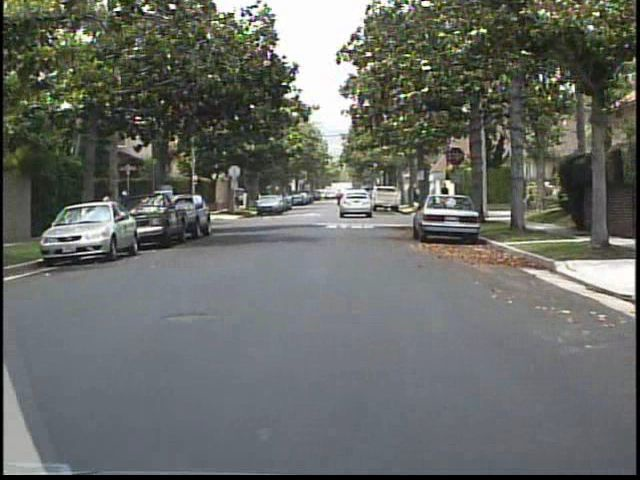person: (100, 189, 119, 234), (436, 179, 453, 213)
